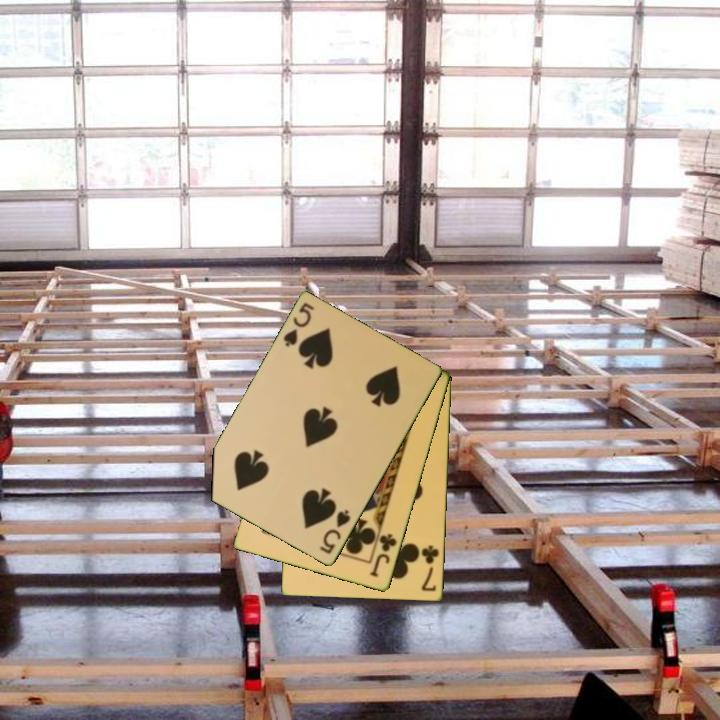5s: (316, 506, 354, 557), (280, 300, 318, 350)
7c: (418, 542, 442, 595)
Jc: (367, 530, 400, 580)
